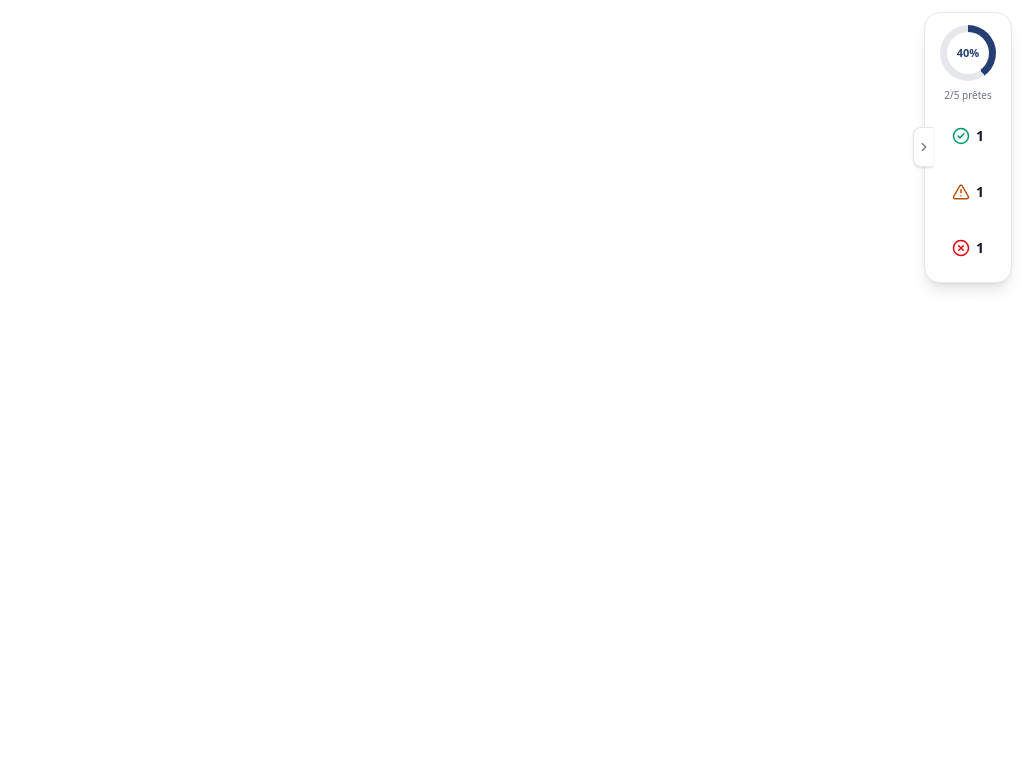
Scenario: ValidationPanel (panneau flottant < lg) › clic sur Erreurs → pop-over avec la remarque ; clic remarque → navigue + ferme
Click the button named "1 Erreurs" at (968, 248), box [937,226,999,270]
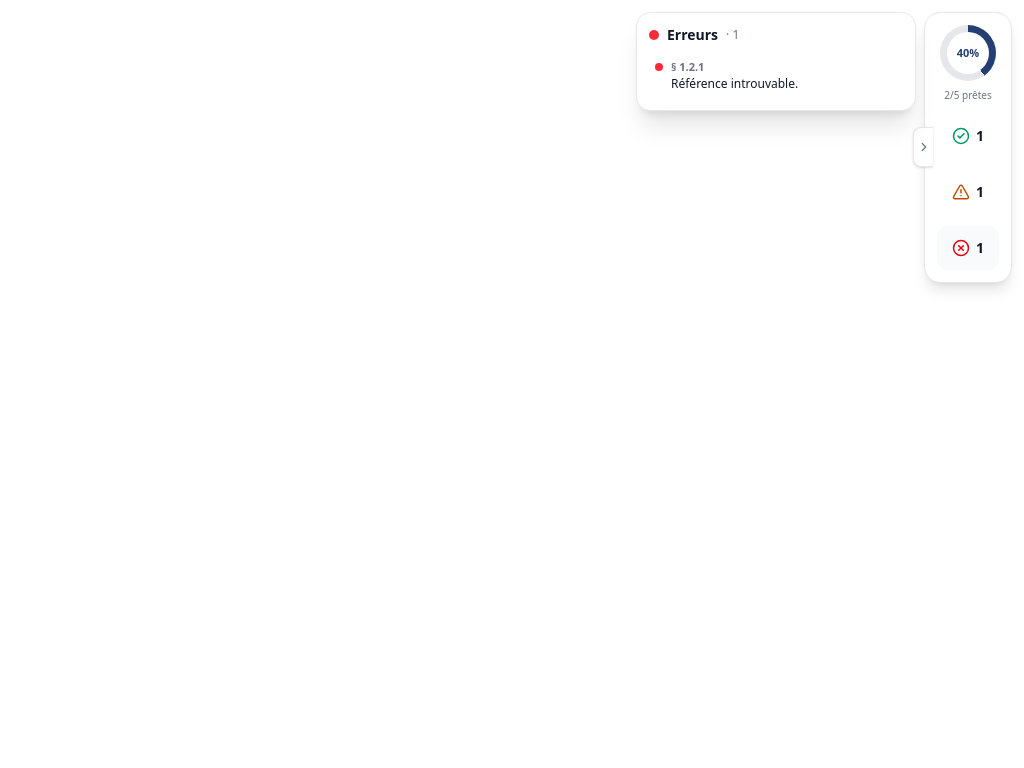
Result: the text "Référence introuvable." is shown
Click the text "Référence introuvable." at (735, 84), box [671,76,798,92]
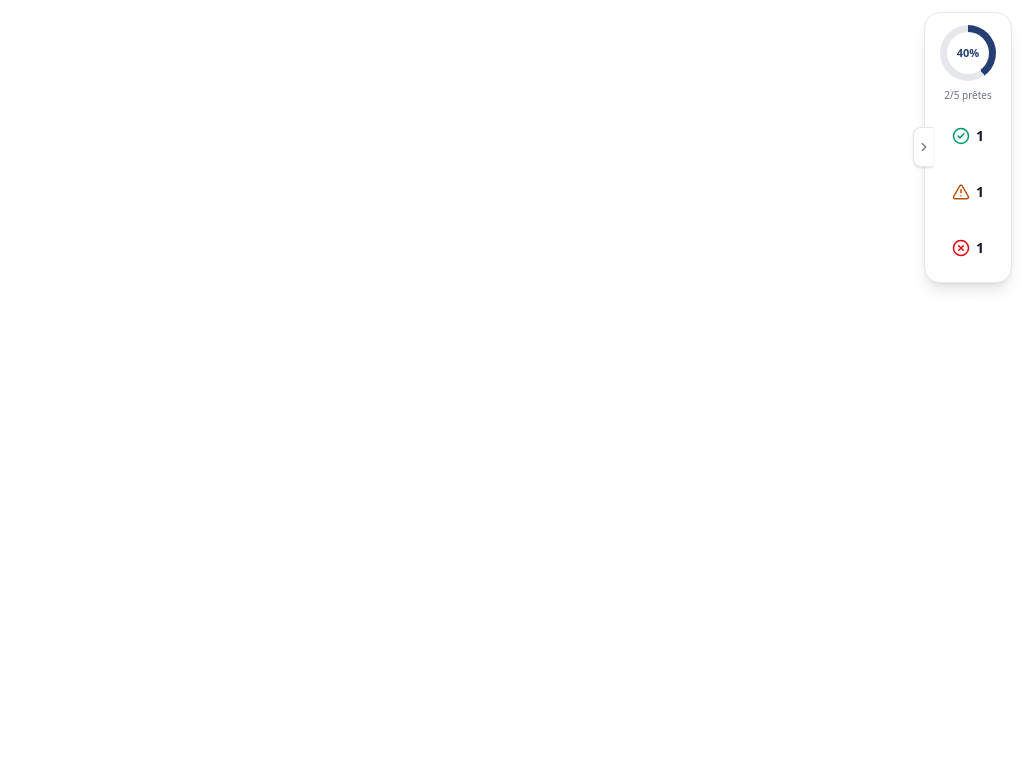
Result: the dialog is gone
